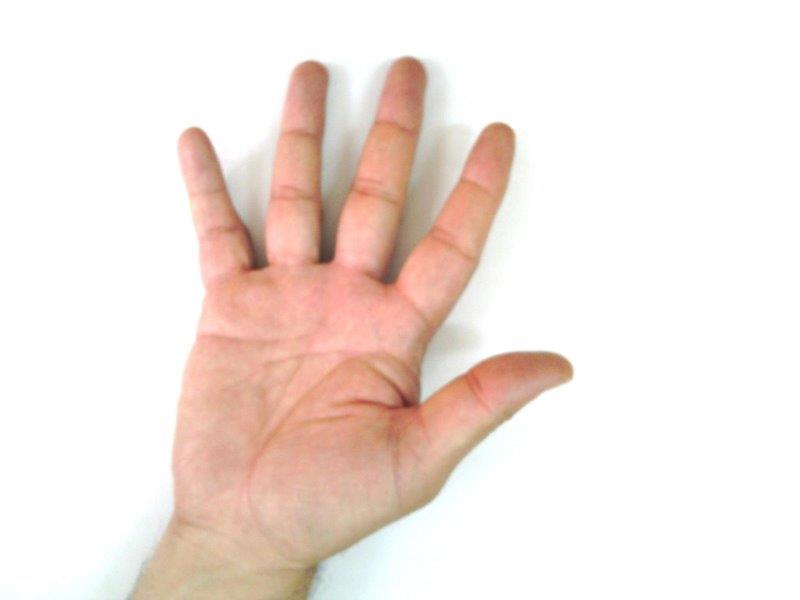hand: (178, 58, 573, 568)
